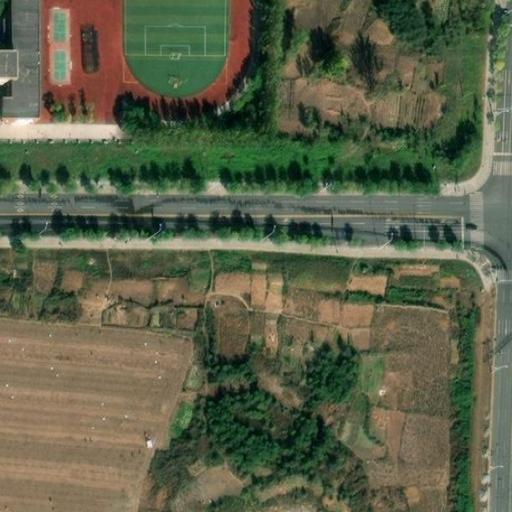building: (0, 0, 38, 119)
